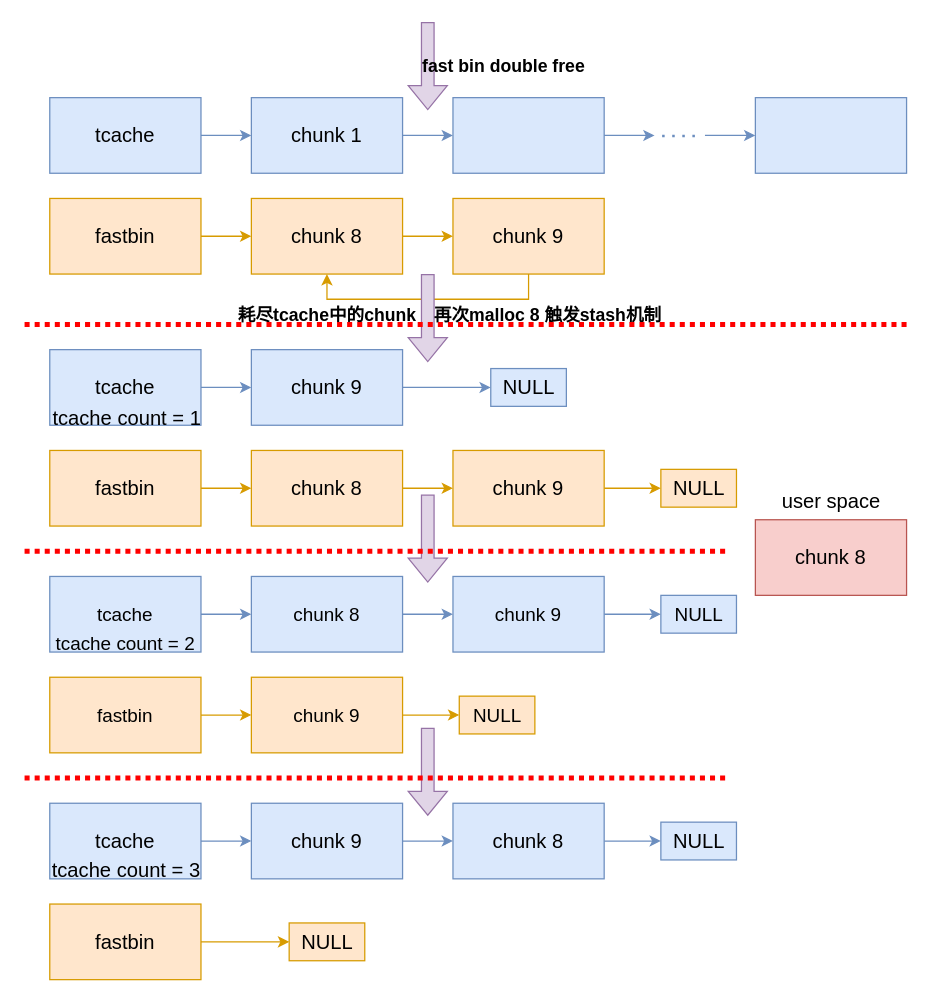
The diagram is 931 pixels wide and 1002 high, and some of its shapes have lost their labels. Each missing label, with the box of its shape:
chunk 2: (452, 96, 604, 173)
chunk 7: (754, 96, 907, 173)
